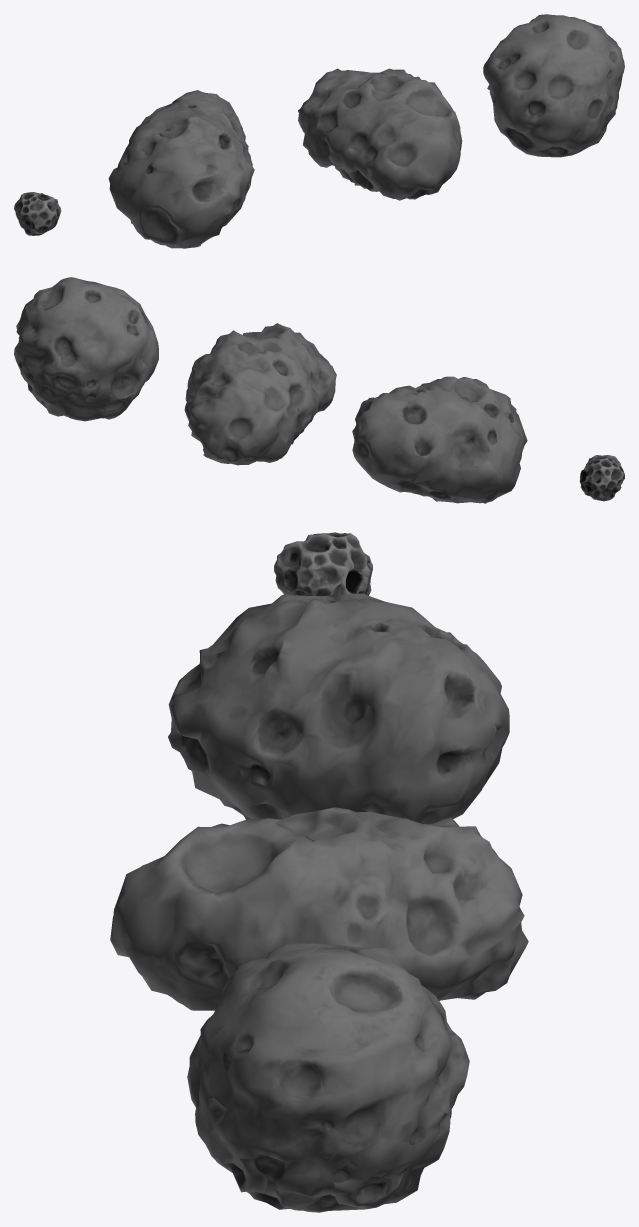
Rendered from Asteroid4_04.fbx.
3 views of the same model, one above another, from view 1: azimuth 30°, elevation 25°; view 2: azimuth 150°, elevation 25°; view 3: azimuth 270°, elevation 25° (orthographic). The views are drawn at different scales.
Visible parts, largest first — view 1: Asteroid3, Asteroid2, Asteroid4, Asteroid1; view 2: Asteroid2, Asteroid4, Asteroid3, Asteroid1; view 3: Asteroid2, Asteroid4, Asteroid3, Asteroid1.
Part boxes in pixels (bbox=[...]): Asteroid3: bbox=[298, 68, 462, 200]; Asteroid2: bbox=[108, 90, 254, 248]; Asteroid4: bbox=[483, 14, 624, 157]; Asteroid1: bbox=[14, 192, 61, 235]; Asteroid2: bbox=[352, 376, 527, 503]; Asteroid4: bbox=[14, 277, 158, 421]; Asteroid3: bbox=[184, 323, 336, 465]; Asteroid1: bbox=[579, 455, 624, 501]; Asteroid2: bbox=[168, 593, 509, 824]; Asteroid4: bbox=[187, 943, 469, 1212]; Asteroid3: bbox=[110, 807, 528, 1010]; Asteroid1: bbox=[274, 532, 372, 596].
Size of the model in its own units: 3587 by 732 by 1088.
Materials: 4 (4 with a texture image).
